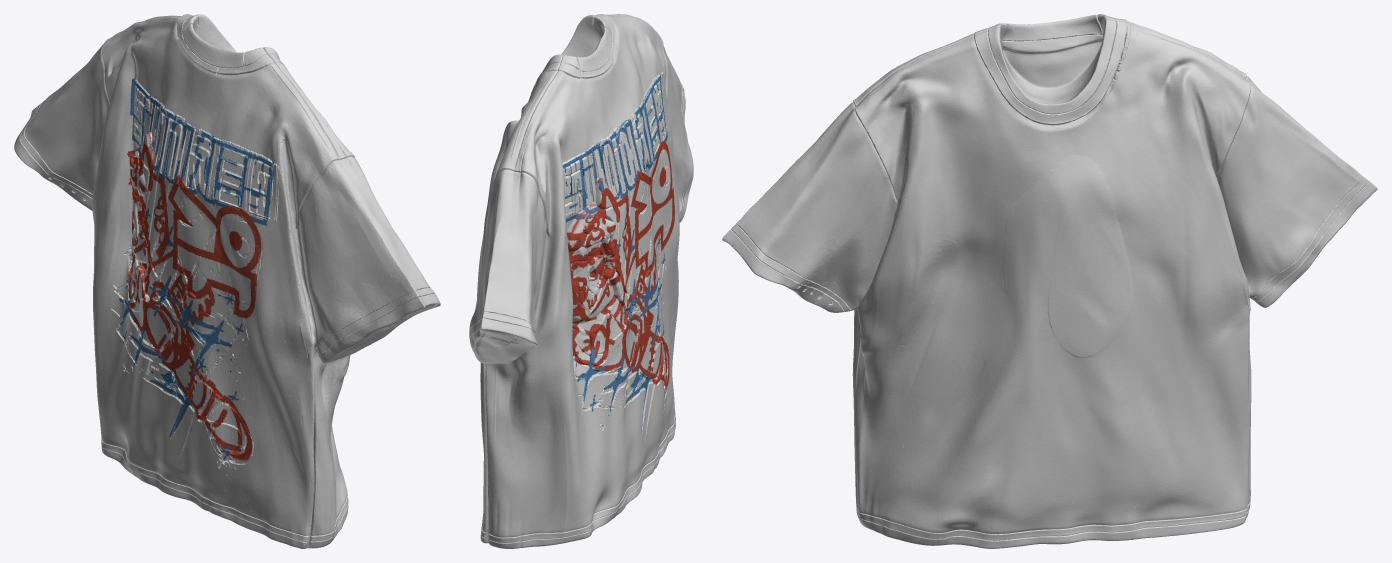
The model's file is white+t-shirt+3d+model.opt.glb.
3 renders of one model, left to right at view 1: azimuth 30°, elevation 25°; view 2: azimuth 150°, elevation 25°; view 3: azimuth 270°, elevation 25°, orthographic. The views are drawn at different scales.
Visible parts, largest first — view 1: tripo_node_ef0f229b-ed52-47e0-ab78-35679126801e; view 2: tripo_node_ef0f229b-ed52-47e0-ab78-35679126801e; view 3: tripo_node_ef0f229b-ed52-47e0-ab78-35679126801e.
Part boxes in pixels (bbox=[...]): tripo_node_ef0f229b-ed52-47e0-ab78-35679126801e: bbox=[14, 14, 440, 548]; tripo_node_ef0f229b-ed52-47e0-ab78-35679126801e: bbox=[469, 14, 693, 548]; tripo_node_ef0f229b-ed52-47e0-ab78-35679126801e: bbox=[722, 14, 1377, 548].
Size of the model in its own units: 0.3039 by 0.8246 by 0.982.
Materials: 1 (1 with a texture image).
